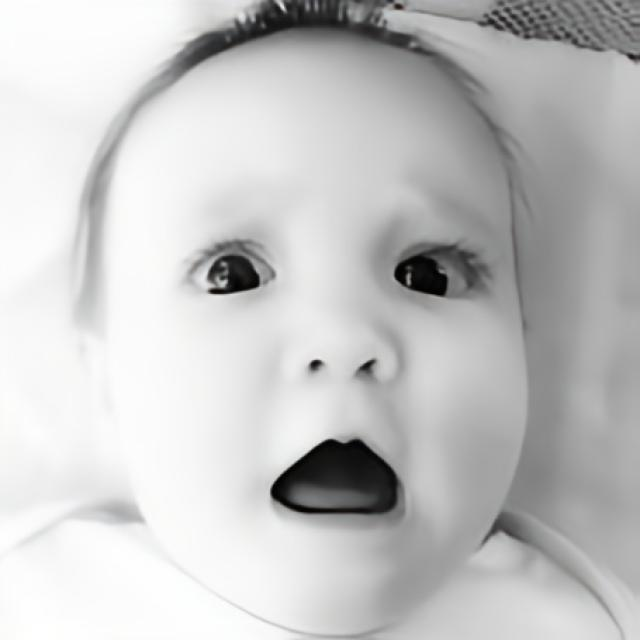surprise: (102, 28, 530, 638)
